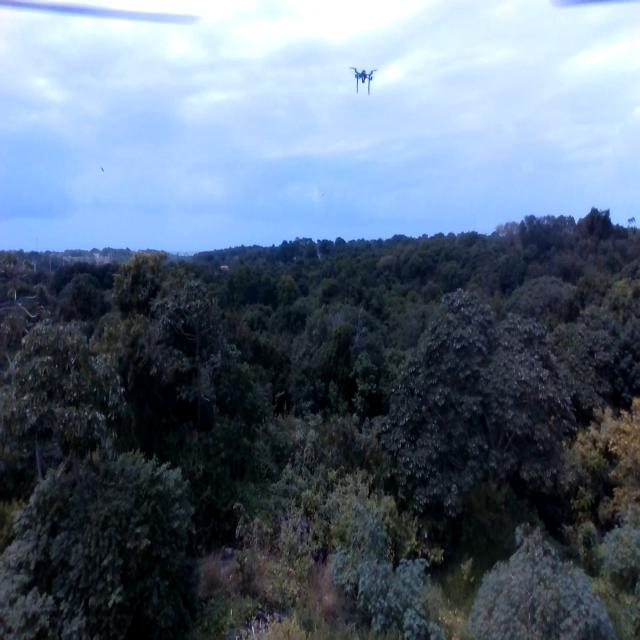-uav-: (341, 49, 384, 113)
